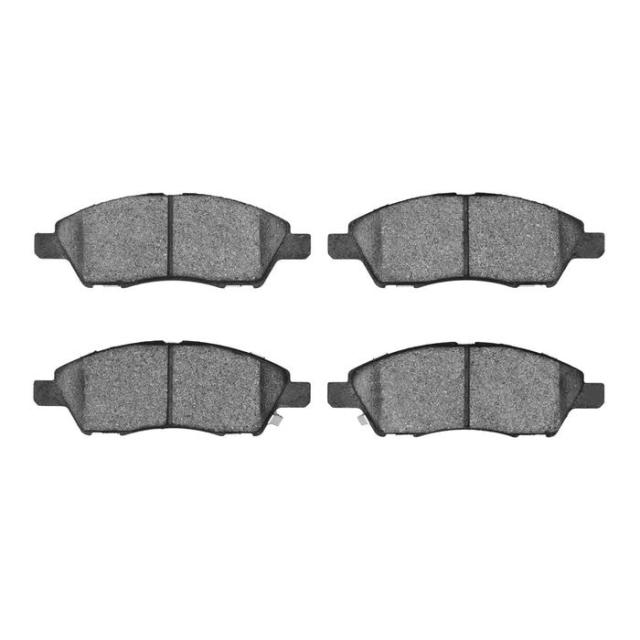brake_pad: (27, 330, 318, 452), (328, 178, 615, 298), (26, 183, 320, 299), (325, 335, 619, 450)
